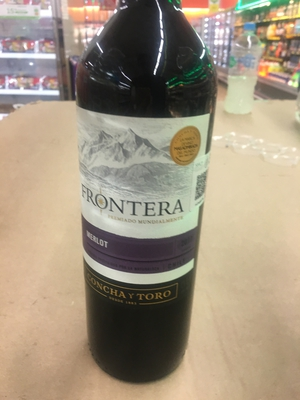frontera merlot: (75, 8, 227, 400)
